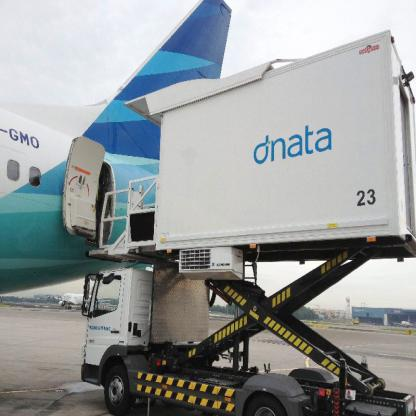Catering truck: (56, 23, 412, 398)
